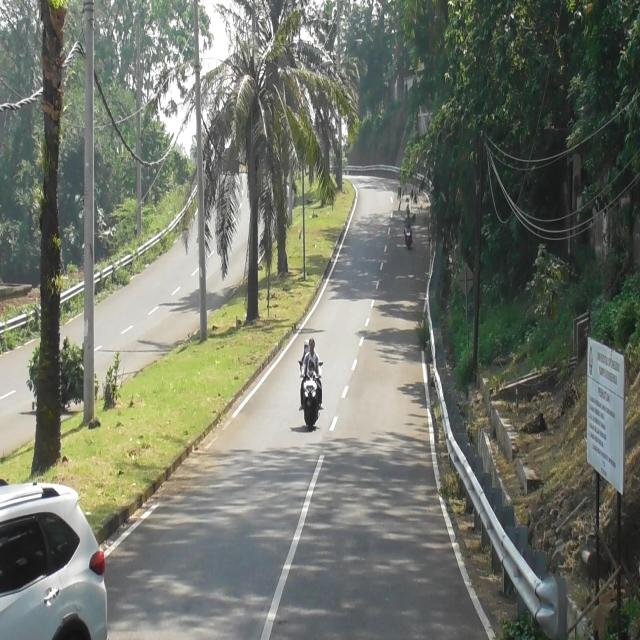motorcycle: (297, 358, 323, 430), (404, 223, 414, 249)
person: (298, 338, 323, 381), (301, 339, 322, 378), (304, 361, 317, 375), (403, 210, 413, 228)
rider_region: (296, 330, 325, 433), (400, 202, 418, 253)
